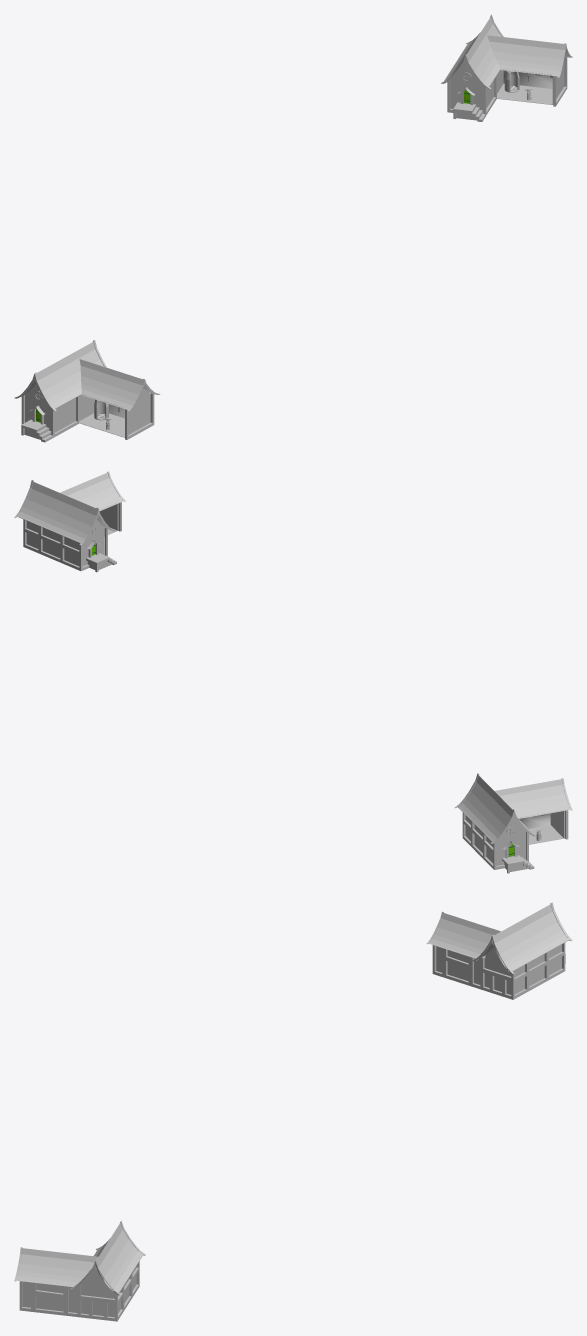
File: Casa23(P).fbx
3 views of the same model, one above another, from view 1: azimuth 90°, elevation 25°; view 2: azimuth 150°, elevation 25°; view 3: azimuth 270°, elevation 25° (orthographic). The views are drawn at different scales.
Parts seen in each view (by area): view 1: Casa23 - Povo; view 2: Casa23 - Povo; view 3: Casa23 - Povo.
Part boxes in pixels (box(x1,y1,x2,y2)): Casa23 - Povo: box(14, 14, 572, 442); Casa23 - Povo: box(14, 471, 572, 873); Casa23 - Povo: box(14, 902, 572, 1321).
Size of the model in its own units: 9037 by 707 by 5781.
